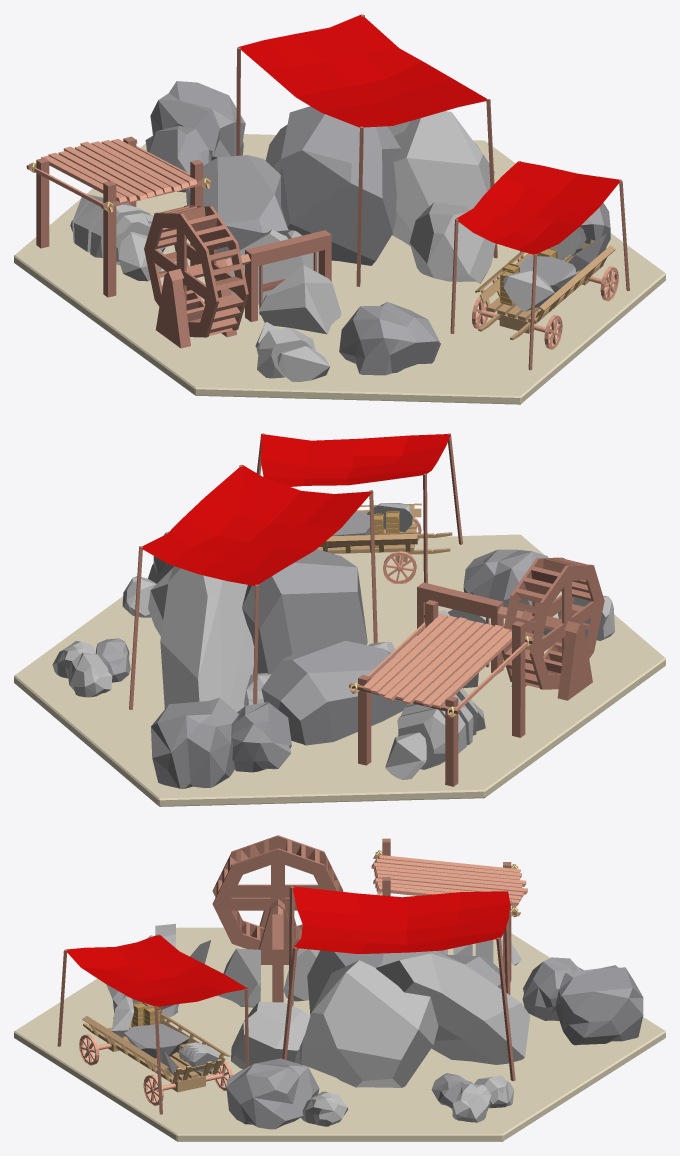
File: CanteraMeshesSplitted.fbx
The picture shows the model from 3 angles, top to bottom: view 1: azimuth 30°, elevation 25°; view 2: azimuth 150°, elevation 25°; view 3: azimuth 270°, elevation 25°; orthographic projection. The views are drawn at different scales.
Parts seen in each view (by area): view 1: Cylinder, Cube_055.004, TelaPiedras, Cube_035.007, Noria, TelaCarreta, Cube_055.005, CasetaTecho, Cube_055.001, Cube_029.003, Cube_035.004, Caseta (+13 smaller); view 2: Cylinder, Cube_055.004, TelaPiedras, Cube_029.004, Cube_055.005, Noria, CasetaTecho, TelaCarreta, Cube_029.003, Caseta, Cube_055.001, Sierra (+13 smaller); view 3: Cylinder, Cube_035.007, TelaPiedras, Cube_029.004, Noria, Cube_055.005, TelaCarreta, Cube_055.002, CasetaTecho, Cube_055.004, PilaresCasetaPiedras, Cube_035.004 (+16 smaller).
Boxes of the visible parts, bbox=[...] form: Cylinder: bbox=[14, 134, 665, 404]; Cube_055.004: bbox=[186, 106, 400, 265]; TelaPiedras: bbox=[238, 14, 488, 127]; Cube_035.007: bbox=[392, 111, 495, 283]; Noria: bbox=[144, 205, 248, 348]; TelaCarreta: bbox=[456, 161, 620, 254]; Cube_055.005: bbox=[145, 81, 245, 192]; CasetaTecho: bbox=[31, 139, 209, 212]; Cube_055.001: bbox=[339, 302, 440, 375]; Cube_029.003: bbox=[70, 194, 165, 281]; Cube_035.004: bbox=[259, 265, 341, 334]; Caseta: bbox=[26, 136, 211, 297]; Cylinder: bbox=[14, 534, 665, 806]; Cube_055.004: bbox=[242, 549, 407, 745]; TelaPiedras: bbox=[140, 465, 372, 585]; Cube_029.004: bbox=[160, 566, 254, 711]; Cube_055.005: bbox=[151, 697, 291, 788]; Noria: bbox=[501, 557, 604, 700]; CasetaTecho: bbox=[351, 614, 527, 717]; TelaCarreta: bbox=[260, 434, 450, 486]; Cube_029.003: bbox=[385, 688, 485, 779]; Caseta: bbox=[349, 600, 534, 786]; Cube_055.001: bbox=[463, 549, 548, 618]; Sierra: bbox=[417, 582, 503, 673]; Cylinder: bbox=[14, 927, 665, 1141]; Cube_035.007: bbox=[231, 960, 438, 1087]; TelaPiedras: bbox=[293, 886, 510, 953]; Cube_029.004: bbox=[376, 951, 530, 1064]; Noria: bbox=[212, 835, 343, 964]; Cube_055.005: bbox=[522, 957, 643, 1045]; TelaCarreta: bbox=[65, 935, 247, 1006]; Cube_055.002: bbox=[226, 1058, 319, 1129]; CasetaTecho: bbox=[371, 855, 527, 916]; Cube_055.004: bbox=[307, 950, 510, 1015]; PilaresCasetaPiedras: bbox=[282, 886, 515, 1081]; Cube_035.004: bbox=[217, 948, 261, 1007].
Bounding box in the file's own units: 600 × 227 × 796.
